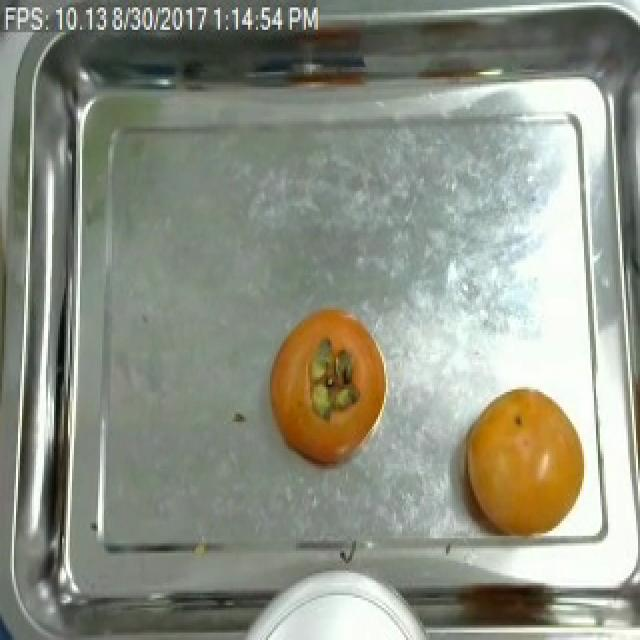Fruit: (452, 377, 594, 553), (258, 297, 392, 478)
